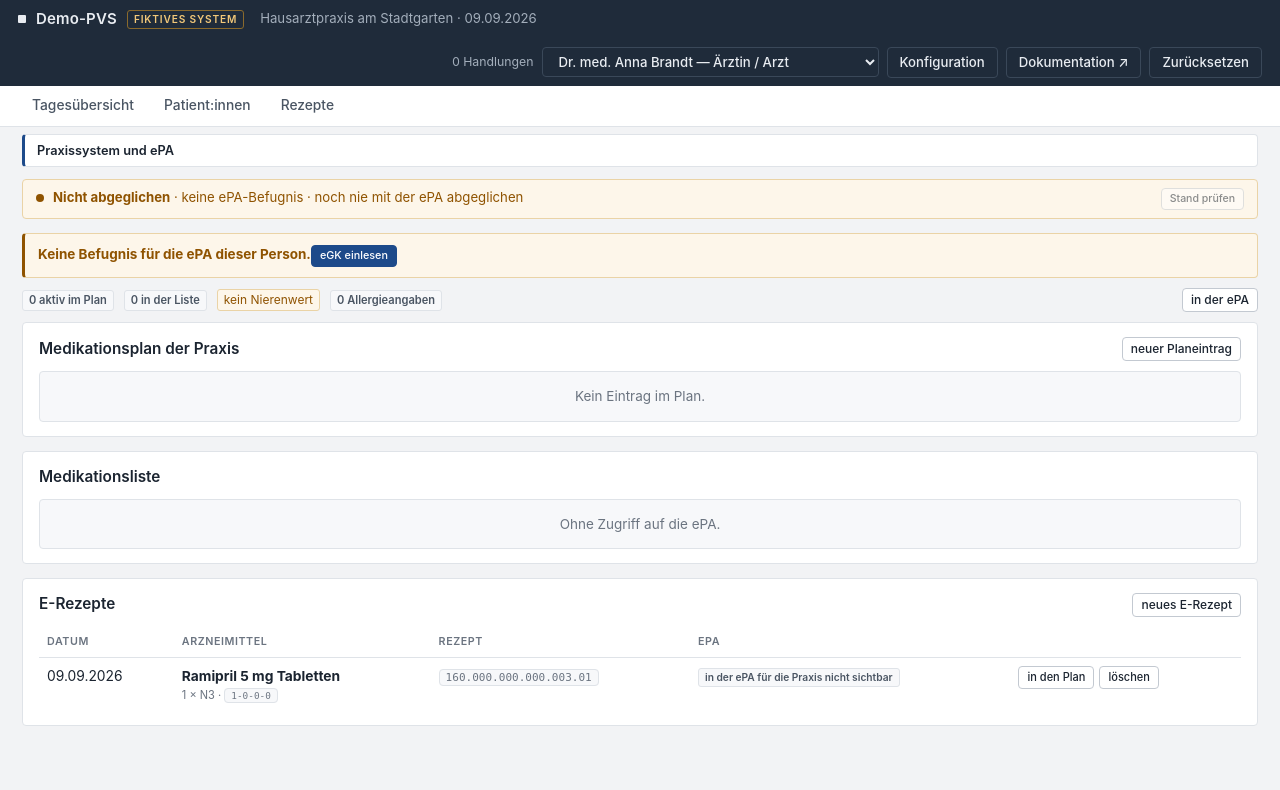
Medikationsplan der Praxis ohne Akte › verordnet aus dem Plan und ordnet das Rezept dem Eintrag zu
(page scrolled)
What coordinates should you click on to do the following:
click the button "in den Plan"
I would click on:
 (1056, 677)
Its box is [1018,666,1094,689].
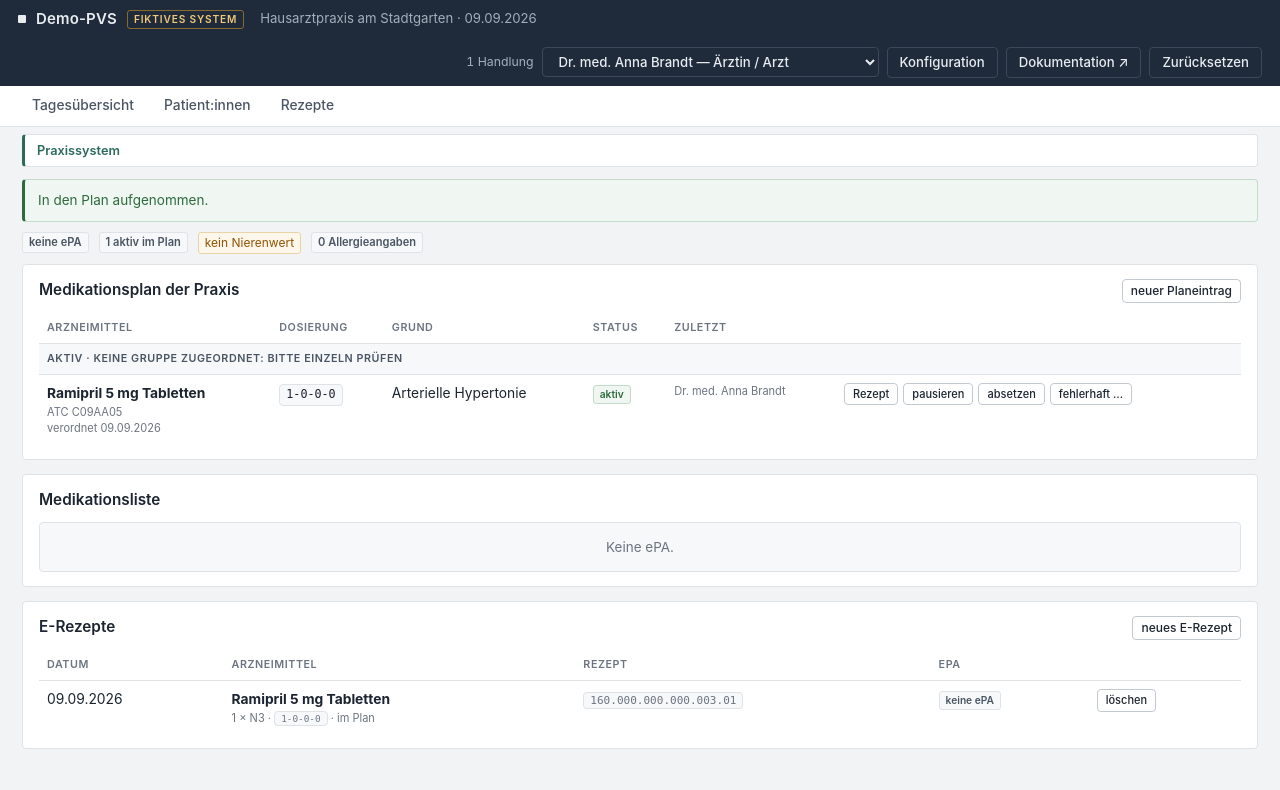
What coordinates should you click on to do the following:
click the button "Rezept"
I would click on:
 (871, 394)
Its box is [844,383,898,406].
(page scrolled)
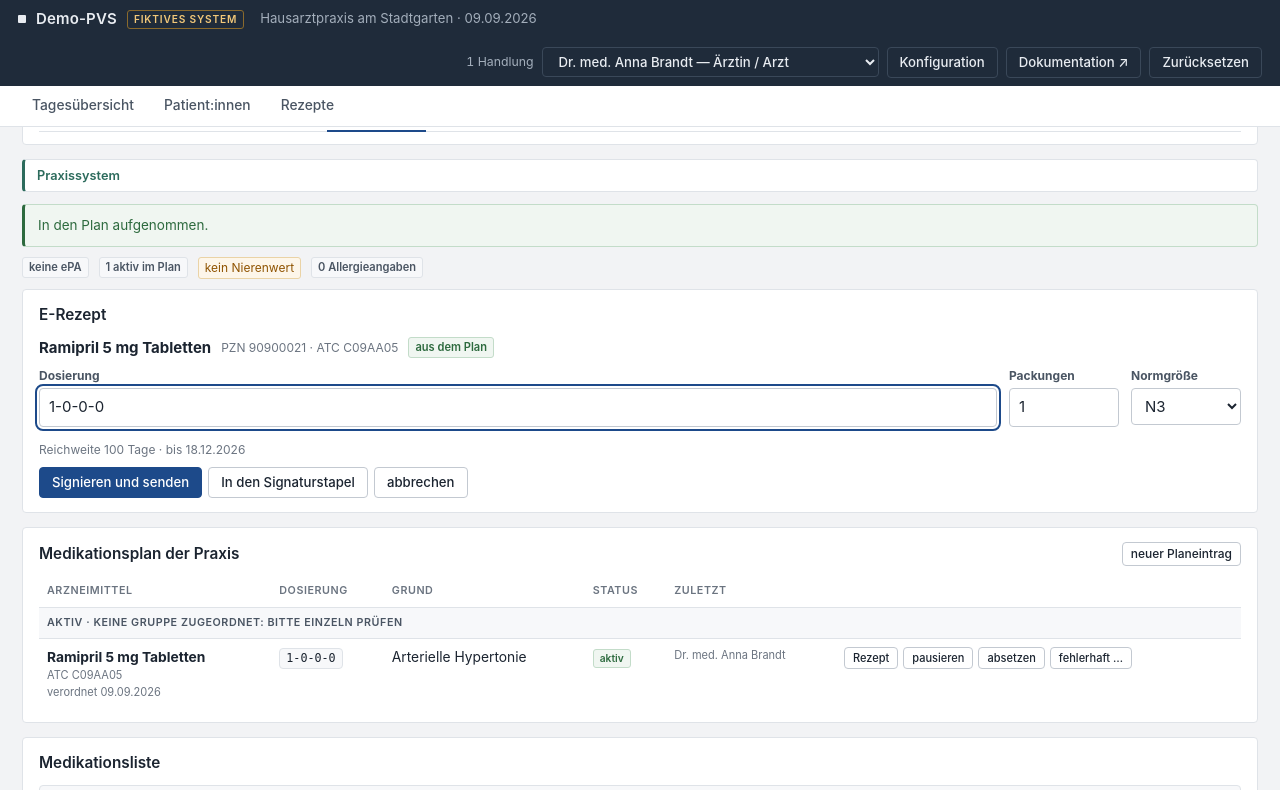
What coordinates should you click on to do the following:
click the button "Signieren und senden"
I would click on:
 (121, 482)
Its box is [39,467,202,498].
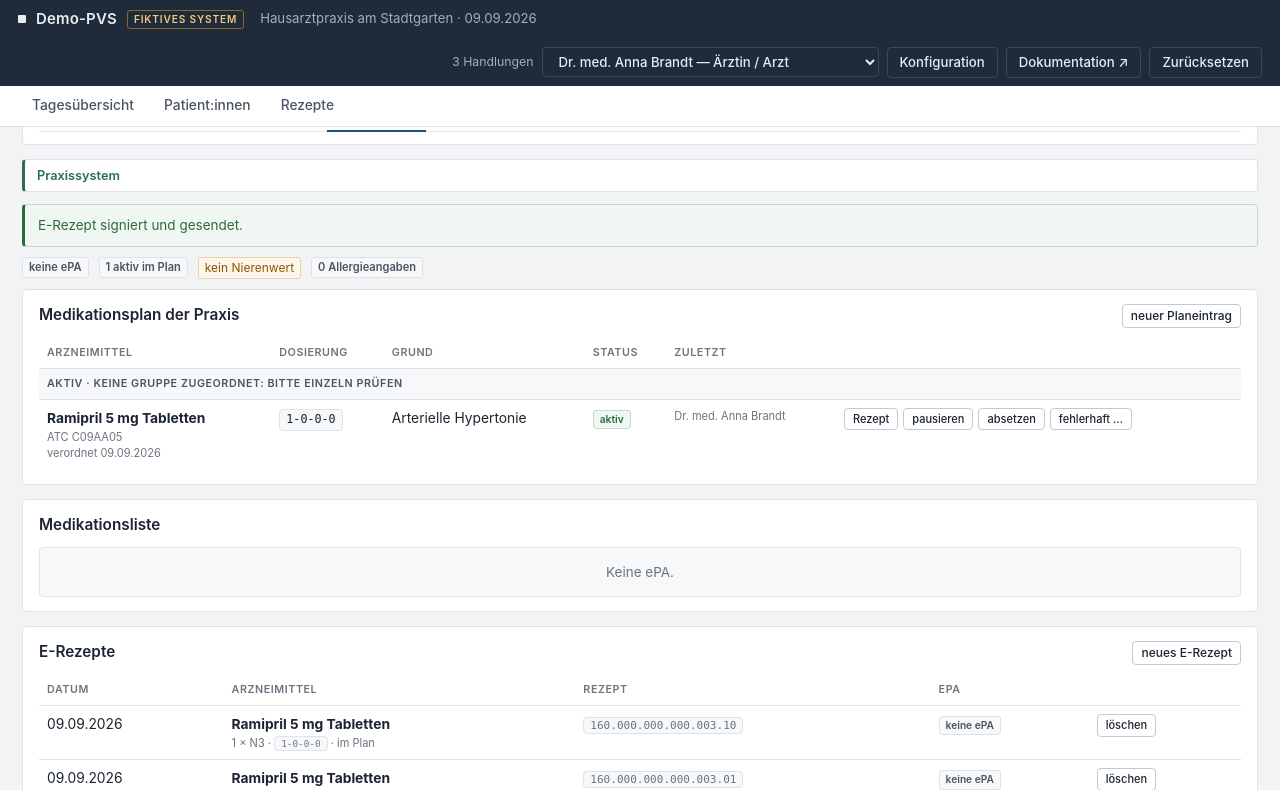
expect the text "E-Rezept signiert und gesendet." is shown: met, box [22,204,1258,247]
